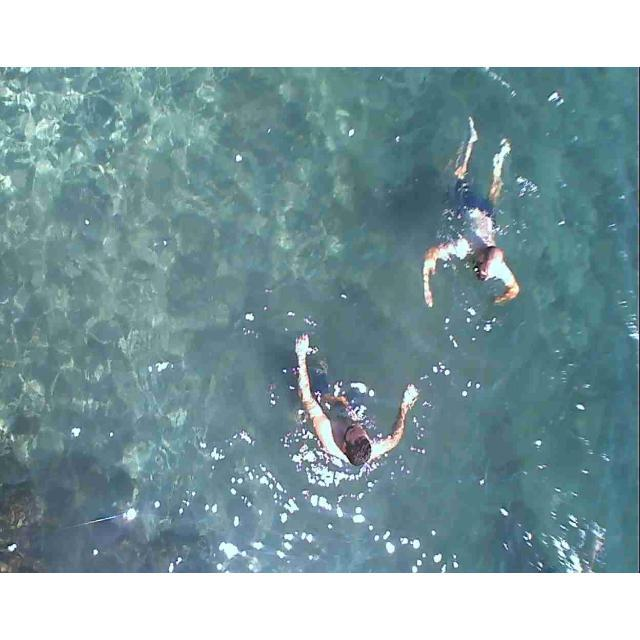human: (432, 103, 520, 328), (289, 326, 424, 472)
